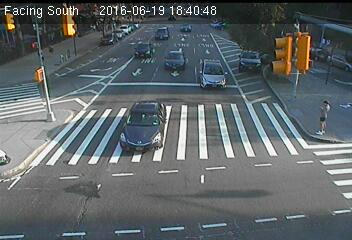neg: (51, 39, 79, 77), (38, 31, 59, 59), (316, 46, 336, 73), (263, 32, 283, 58)
pos: (309, 95, 341, 138)
